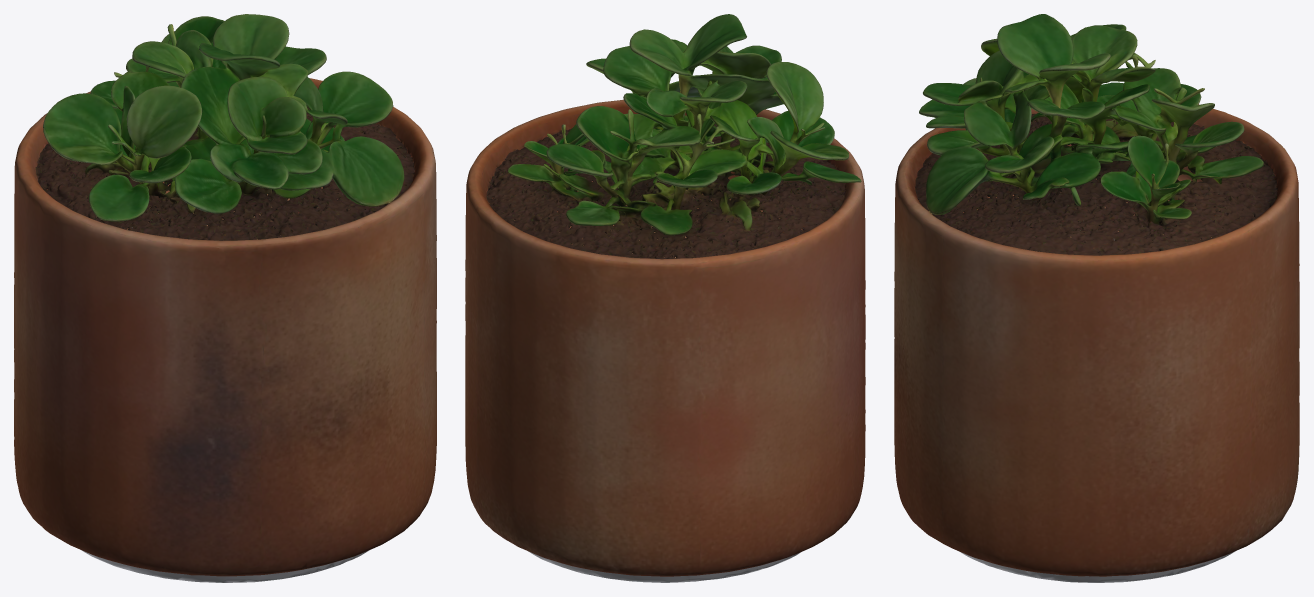
Rendered from plant.glb.
3 renders of one model, left to right at view 1: azimuth 30°, elevation 25°; view 2: azimuth 150°, elevation 25°; view 3: azimuth 270°, elevation 25°, orthographic. The views are drawn at different scales.
Parts seen in each view (by area): view 1: geometry_0; view 2: geometry_0; view 3: geometry_0.
Part boxes in pixels (bbox=[...]): geometry_0: bbox=[14, 14, 436, 582]; geometry_0: bbox=[465, 14, 865, 582]; geometry_0: bbox=[894, 14, 1299, 582].
Size of the model in its own units: 0.7735 by 1 by 0.7738.
Materials: 1 (1 with a texture image).
